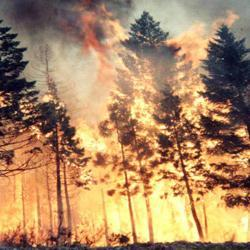fire: (76, 193, 124, 236), (86, 12, 114, 57), (153, 199, 189, 234), (203, 207, 241, 238)
